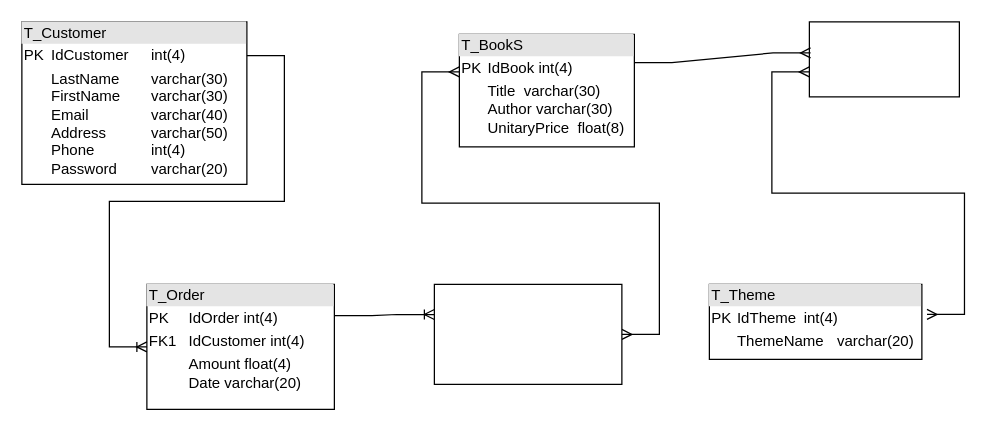
Image size: 999x431. Some labels were removed from this diagram. The shapes that lost their labels are listed below. From the top down, each one's box as (x1, y1, x2, y2) in pixels, then its label:
(808, 21, 959, 97): T_ThemeItem PK IdBook int(4) FK1 IdTheme int(4)
(433, 283, 622, 384): T_OrderItem PK IdOrder int(4) FK1 IdBook int(4) Qauntity int(4)
